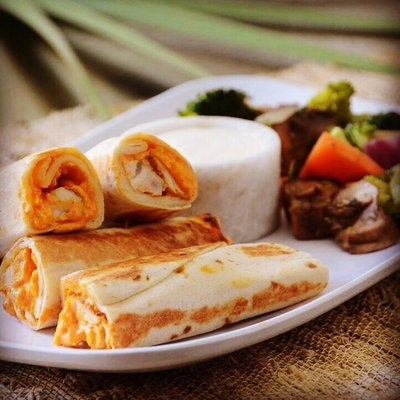curry: (177, 88, 259, 120)
